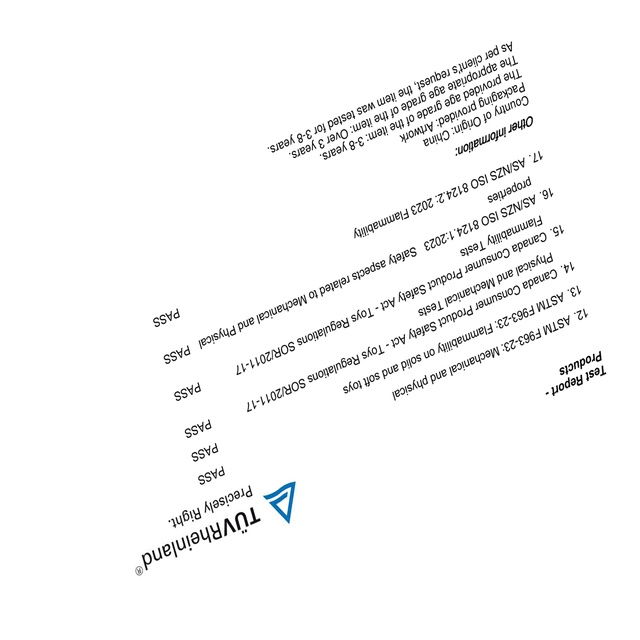tuv_rheinland: (132, 478, 297, 579)
